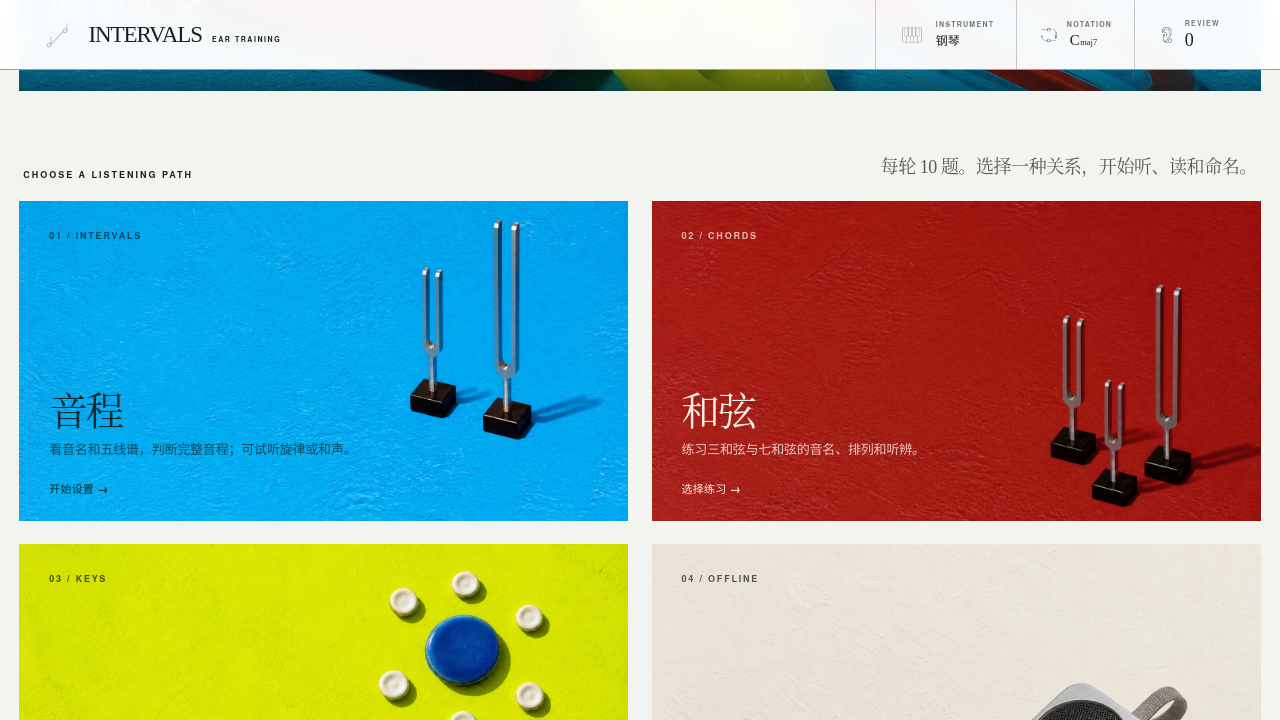
Test case: App quiz navigation and triad playback › switches the global topbar instrument and replays the current quiz with the new source
The image size is (1280, 720).
(page scrolled)
What coordinates should you click on to do the following:
click the button "02 / CHORDS 和弦 练习三和弦与七和弦的音名、排列和听辨。 选择练习 →"
I would click on:
 (956, 361)
Its box is [652, 201, 1261, 521].
(page scrolled)
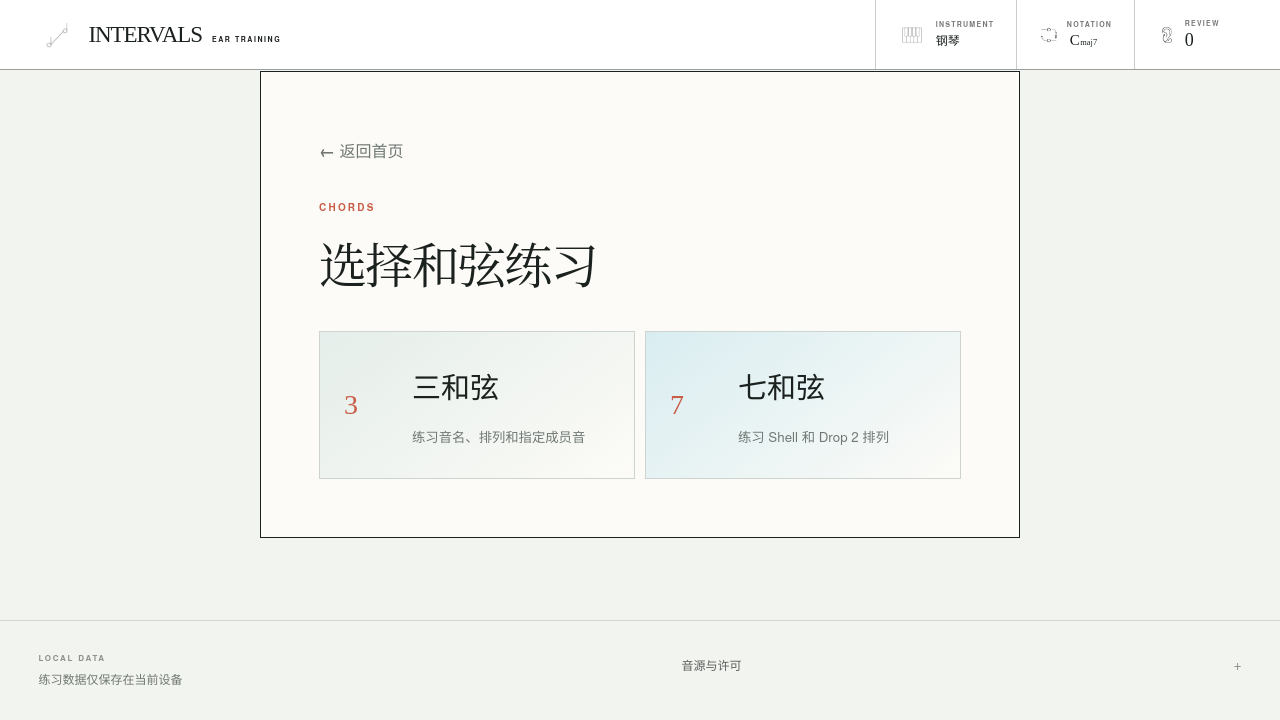
What coordinates should you click on to do the following:
click the button "3 三和弦 练习音名、排列和指定成员音"
I would click on:
 (477, 405)
Its box is [319, 331, 635, 479].
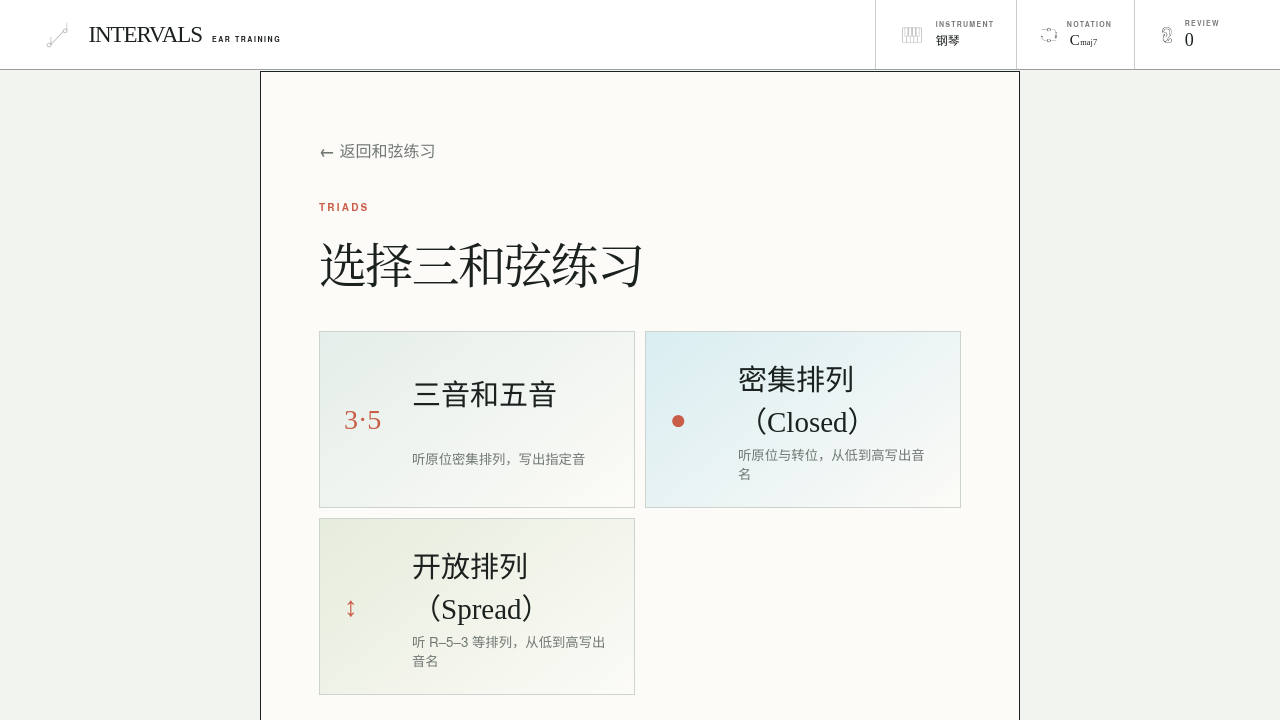
What coordinates should you click on to do the following:
click the button "● 密集排列（Closed） 听原位与转位，从低到高写出音名"
I would click on:
 (803, 420)
Its box is [645, 331, 961, 508].
(page scrolled)
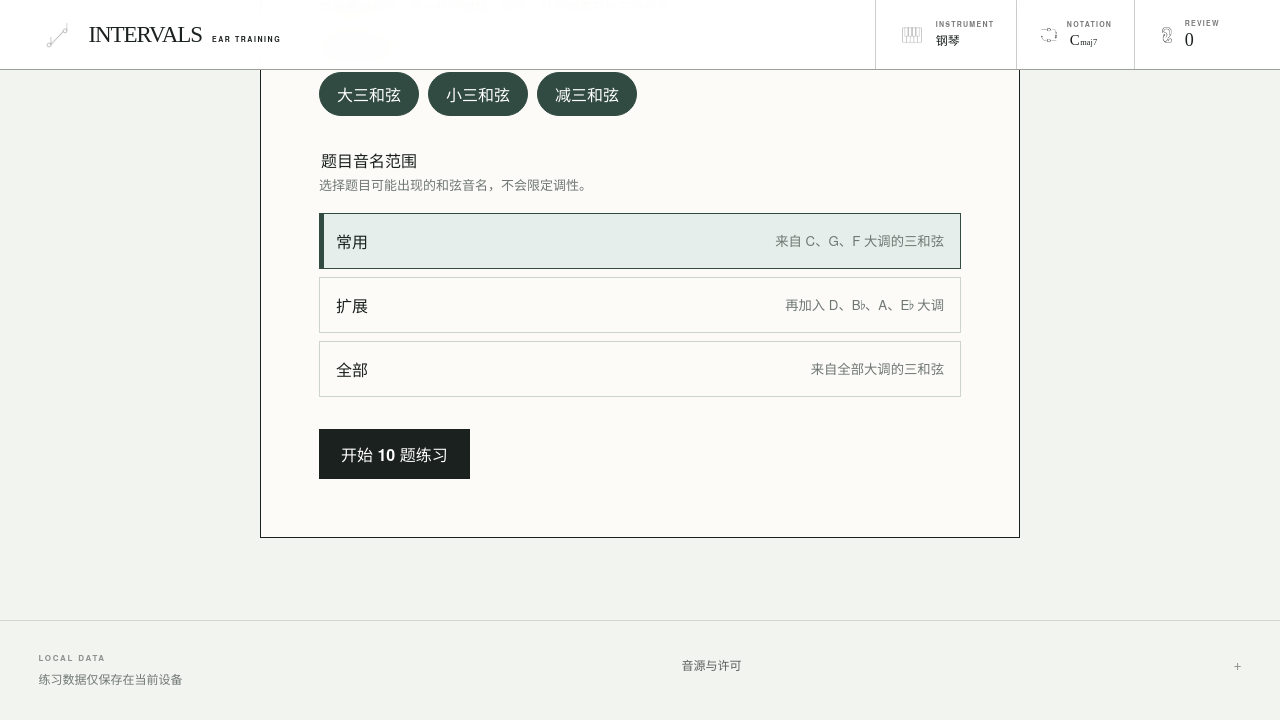
What coordinates should you click on to do the following:
click the button "开始 10 题练习"
I would click on:
 (394, 454)
Its box is [319, 429, 470, 479].
(page scrolled)
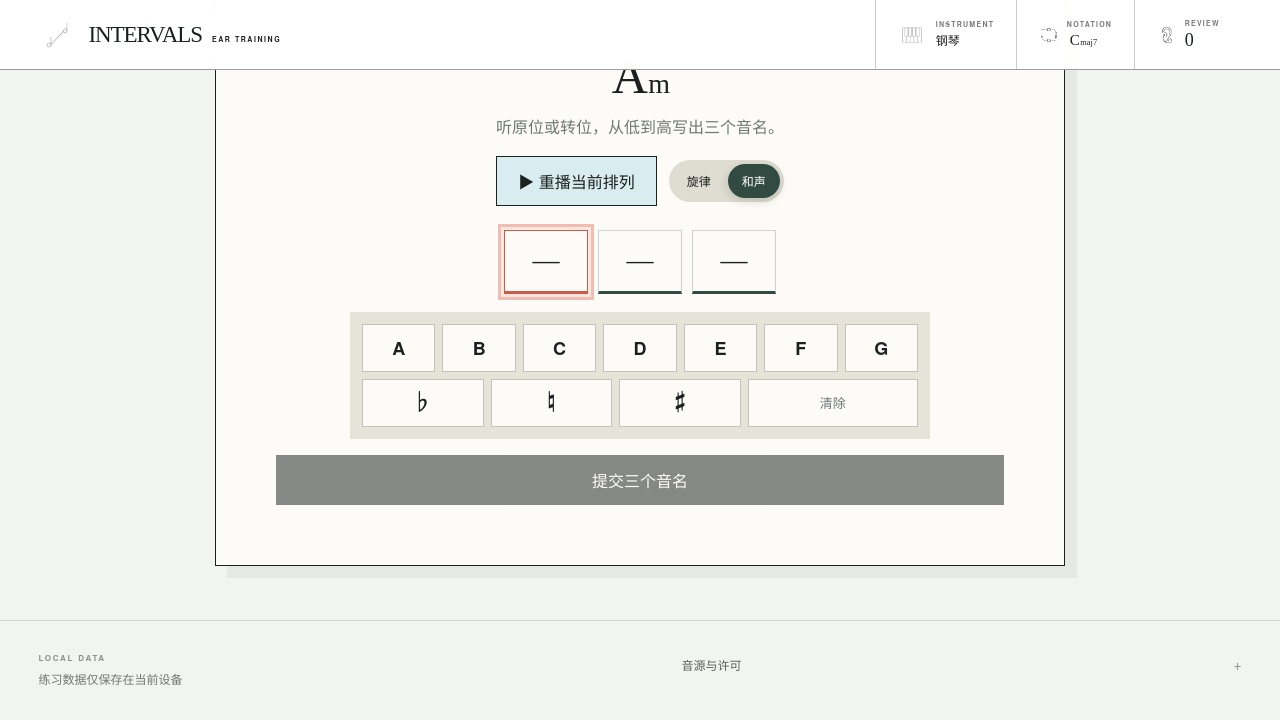
What coordinates should you click on to do the following:
click the button with aria-label "当前音色：钢琴；点击切换为古典吉他"
I would click on:
 (946, 34)
Its box is [875, 0, 1016, 69].
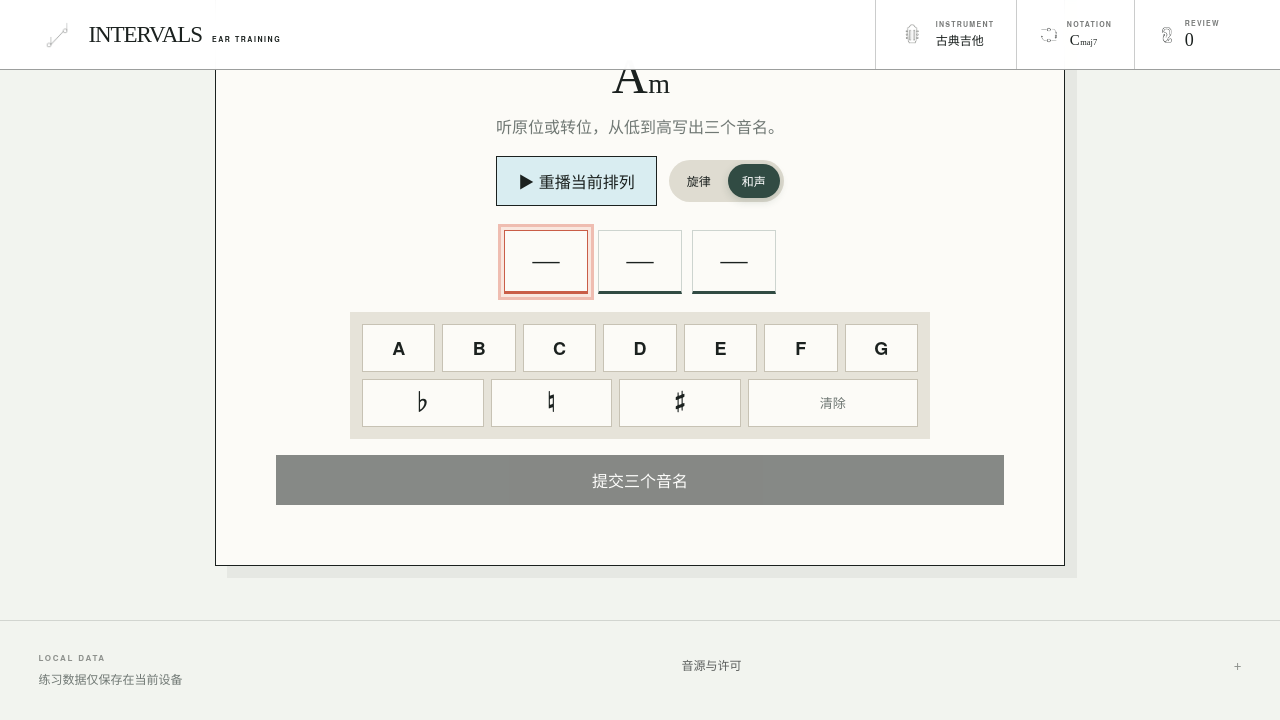
Expected: the button with aria-label "当前音色：古典吉他；点击切换为钢琴" is shown, [875, 0, 1016, 69]
